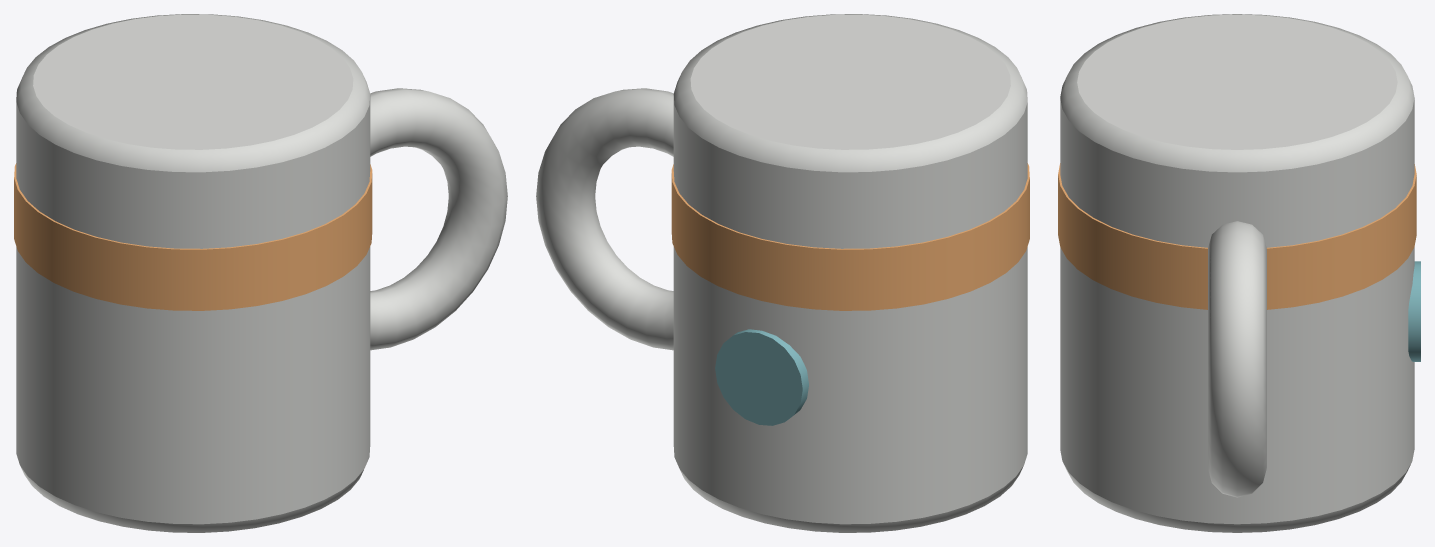
Rendered from crew_mug.glb.
3 views of the same model, side by side, from view 1: azimuth 30°, elevation 25°; view 2: azimuth 150°, elevation 25°; view 3: azimuth 270°, elevation 25° (orthographic).
Visible parts, largest first — view 1: mug_body_white_painted, mug_band_orange, mug_handle_white_painted; view 2: mug_body_white_painted, mug_band_orange, mug_handle_white_painted, mug_patch_teal; view 3: mug_body_white_painted, mug_band_orange, mug_handle_white_painted, mug_patch_teal.
Part boxes in pixels (x1,y1,x2,y2): mug_body_white_painted: [16, 14, 370, 532]; mug_band_orange: [14, 163, 372, 310]; mug_handle_white_painted: [370, 88, 507, 350]; mug_body_white_painted: [673, 14, 1027, 532]; mug_band_orange: [671, 163, 1029, 310]; mug_handle_white_painted: [536, 88, 673, 350]; mug_patch_teal: [715, 329, 808, 425]; mug_body_white_painted: [1060, 14, 1414, 532]; mug_band_orange: [1058, 163, 1416, 309]; mug_handle_white_painted: [1208, 221, 1266, 497]; mug_patch_teal: [1408, 261, 1420, 361].
Bounding box in the file's own units: 0.1275 × 0.1 × 0.086.
